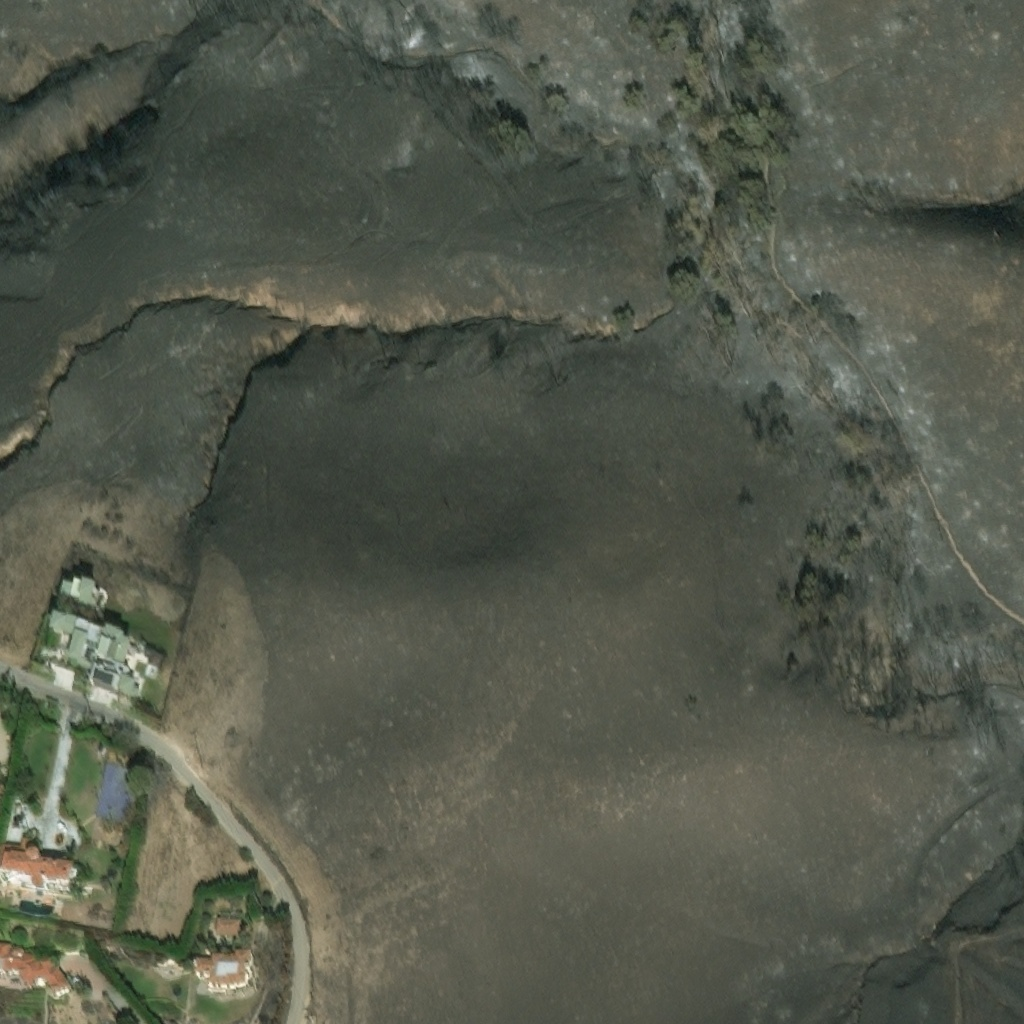0 no-damage: (33, 612, 159, 704), (0, 827, 76, 892), (0, 942, 74, 1003), (192, 952, 254, 991), (58, 578, 103, 609), (213, 915, 241, 934)
